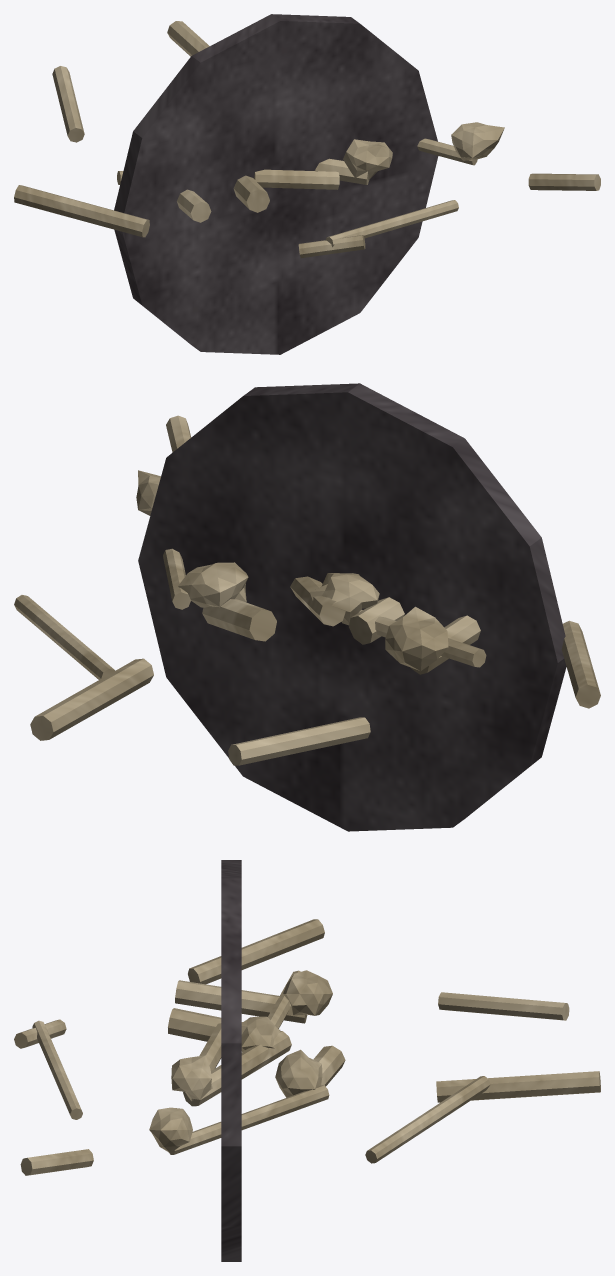
The model's file is 0226_bone_heap_01.glb.
The picture shows the model from 3 angles, top to bottom: view 1: azimuth 30°, elevation 25°; view 2: azimuth 150°, elevation 25°; view 3: azimuth 270°, elevation 25°; orthographic projection. The views are drawn at different scales.
Visible parts, largest first — view 1: ash, bone; view 2: ash, bone; view 3: bone, ash.
Part boxes in pixels (x1,y1,x2,y2): ash: [114, 14, 438, 354]; bone: [14, 21, 600, 258]; ash: [138, 383, 566, 831]; bone: [14, 415, 600, 765]; bone: [14, 919, 600, 1175]; ash: [221, 860, 241, 1261].
Bounding box in the file's own units: 2.3 × 1.6 × 2.33.
2 materials, 2 textured.
